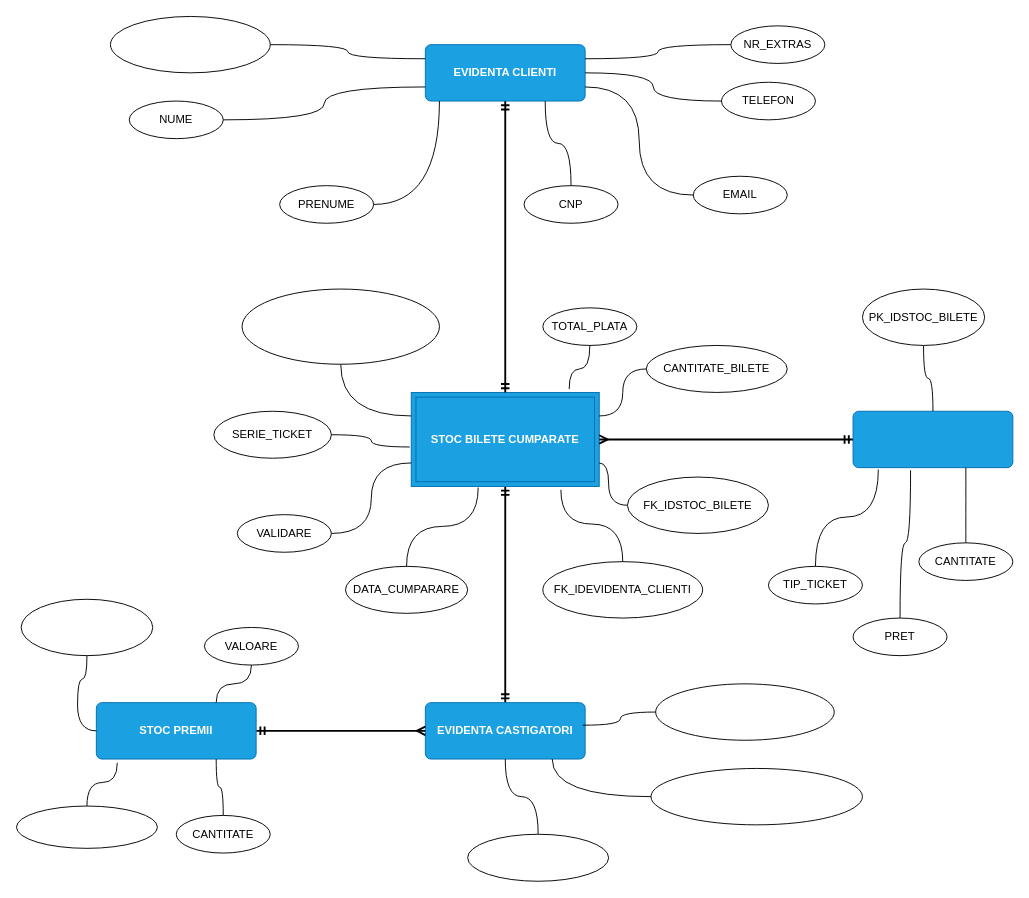
This 1029x898 diagram has some shape labels left out. Each missing label, with the centre of its shape:
DENUMIRE_PREMIU: pixel 86 826
FK_IDSTOC_BILETE_CUMPARATE: pixel 756 796
FK_IDSTOC_PREMII: pixel 538 857
PK_IDEVIDENTA_CASTIGATORI: pixel 744 711
PK_IDEVIDENTA_CLIENTI: pixel 190 44
PK_IDSTOC_BILETE_CUMPARATE: pixel 340 326
PK_IDSTOC_PREMII: pixel 86 627
STOC BILETE: pixel 932 439
